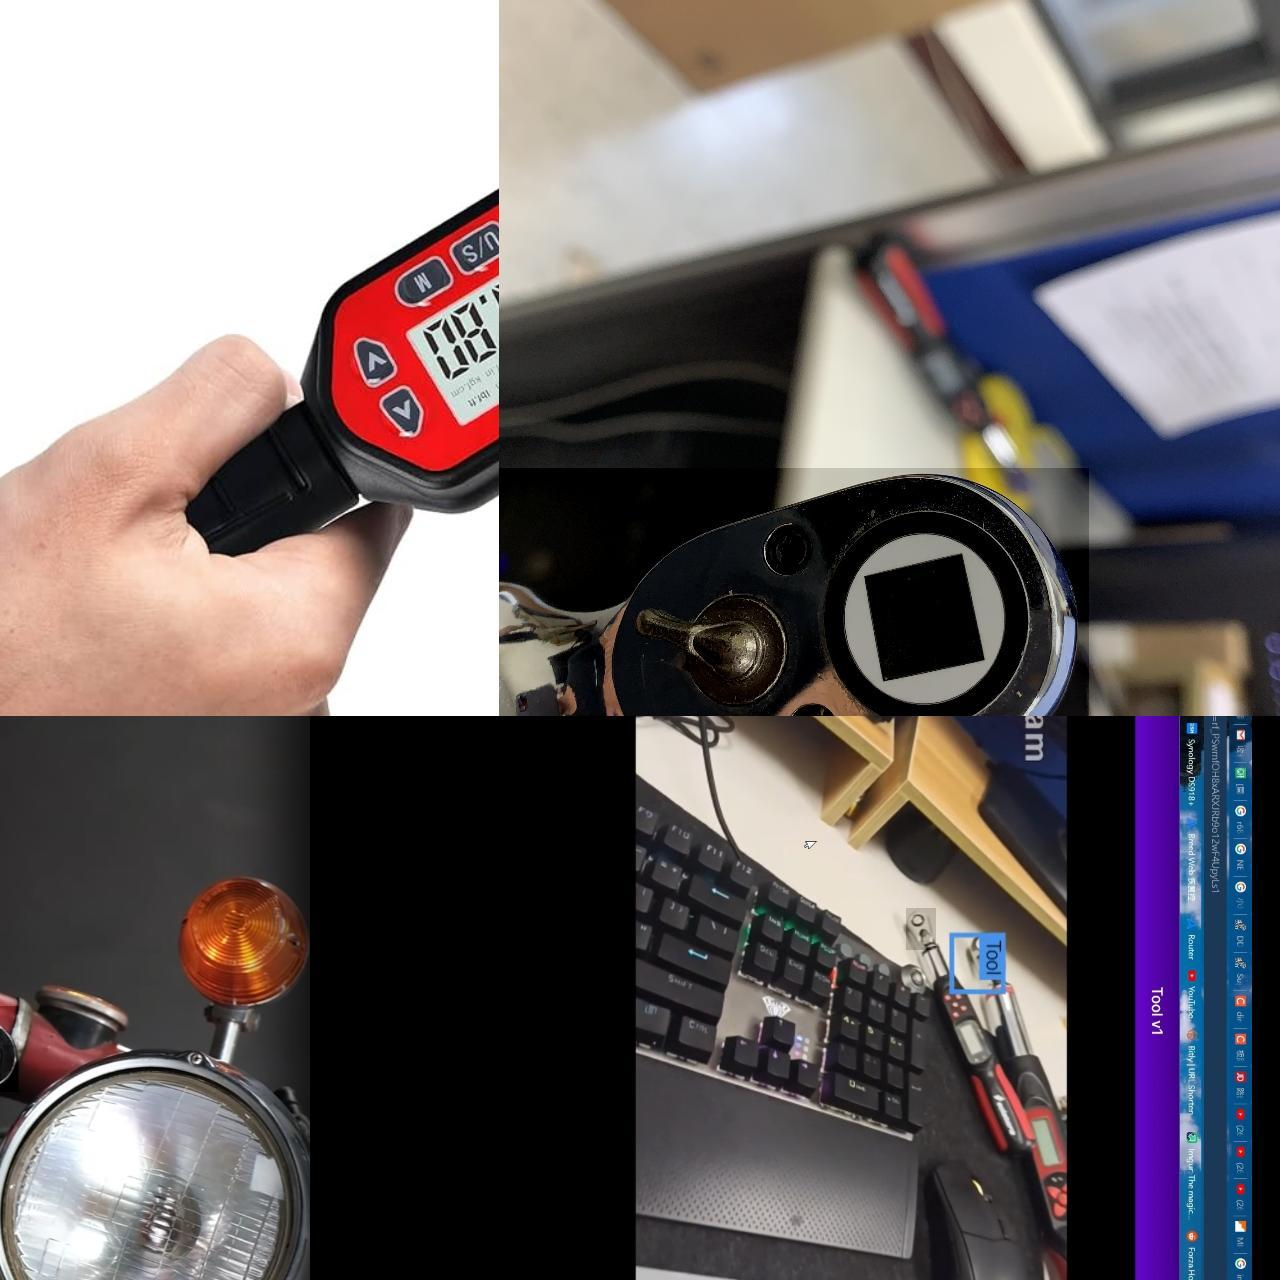Tool: (499, 467, 1089, 716), (906, 907, 937, 949)
